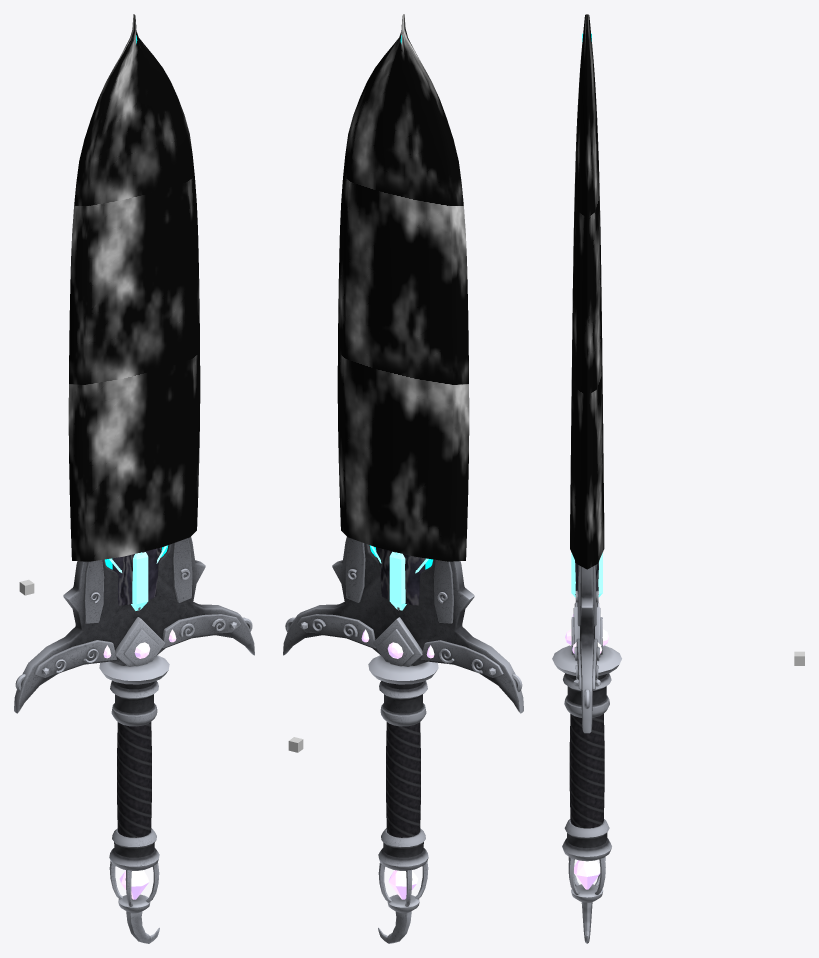
The model's file is MoFengSword.glb.
3 views of the same model, side by side, from view 1: azimuth 30°, elevation 25°; view 2: azimuth 150°, elevation 25°; view 3: azimuth 270°, elevation 25° (orthographic).
Visible parts, largest first — view 1: BladeAura, Hilt, Handle, BladeCore, EnergyVeins, AccentGems; view 2: BladeAura, Hilt, Handle, BladeCore, EnergyVeins, AccentGems; view 3: BladeAura, Hilt, Handle, AccentGems.
Part boxes in pixels (bbox=[...]): BladeAura: bbox=[68, 14, 200, 561]; Hilt: bbox=[14, 537, 254, 943]; Handle: bbox=[117, 722, 151, 837]; BladeCore: bbox=[112, 547, 161, 605]; EnergyVeins: bbox=[109, 545, 166, 610]; AccentGems: bbox=[103, 629, 176, 899]; BladeAura: bbox=[337, 14, 469, 561]; Hilt: bbox=[283, 537, 523, 943]; Handle: bbox=[386, 722, 420, 837]; BladeCore: bbox=[376, 547, 425, 605]; EnergyVeins: bbox=[371, 545, 428, 610]; AccentGems: bbox=[361, 629, 434, 899]; BladeAura: bbox=[570, 14, 604, 569]; Hilt: bbox=[552, 565, 621, 943]; Handle: bbox=[569, 714, 604, 828]; AccentGems: bbox=[565, 613, 609, 889].
Size of the model in its own units: 1.28 by 4.79 by 1.19.
8 materials, 4 textured.
